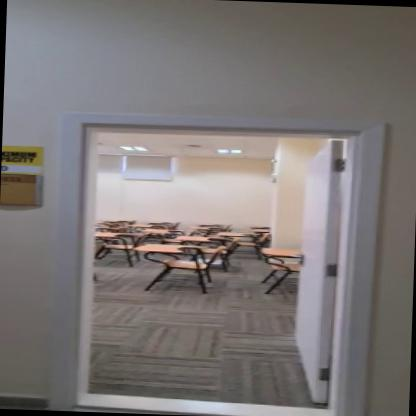open: (43, 94, 379, 415)
